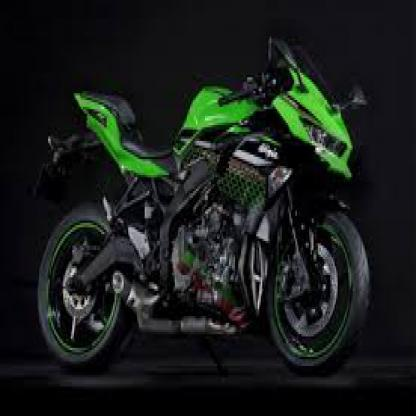Motorcycle: (32, 29, 373, 378)
